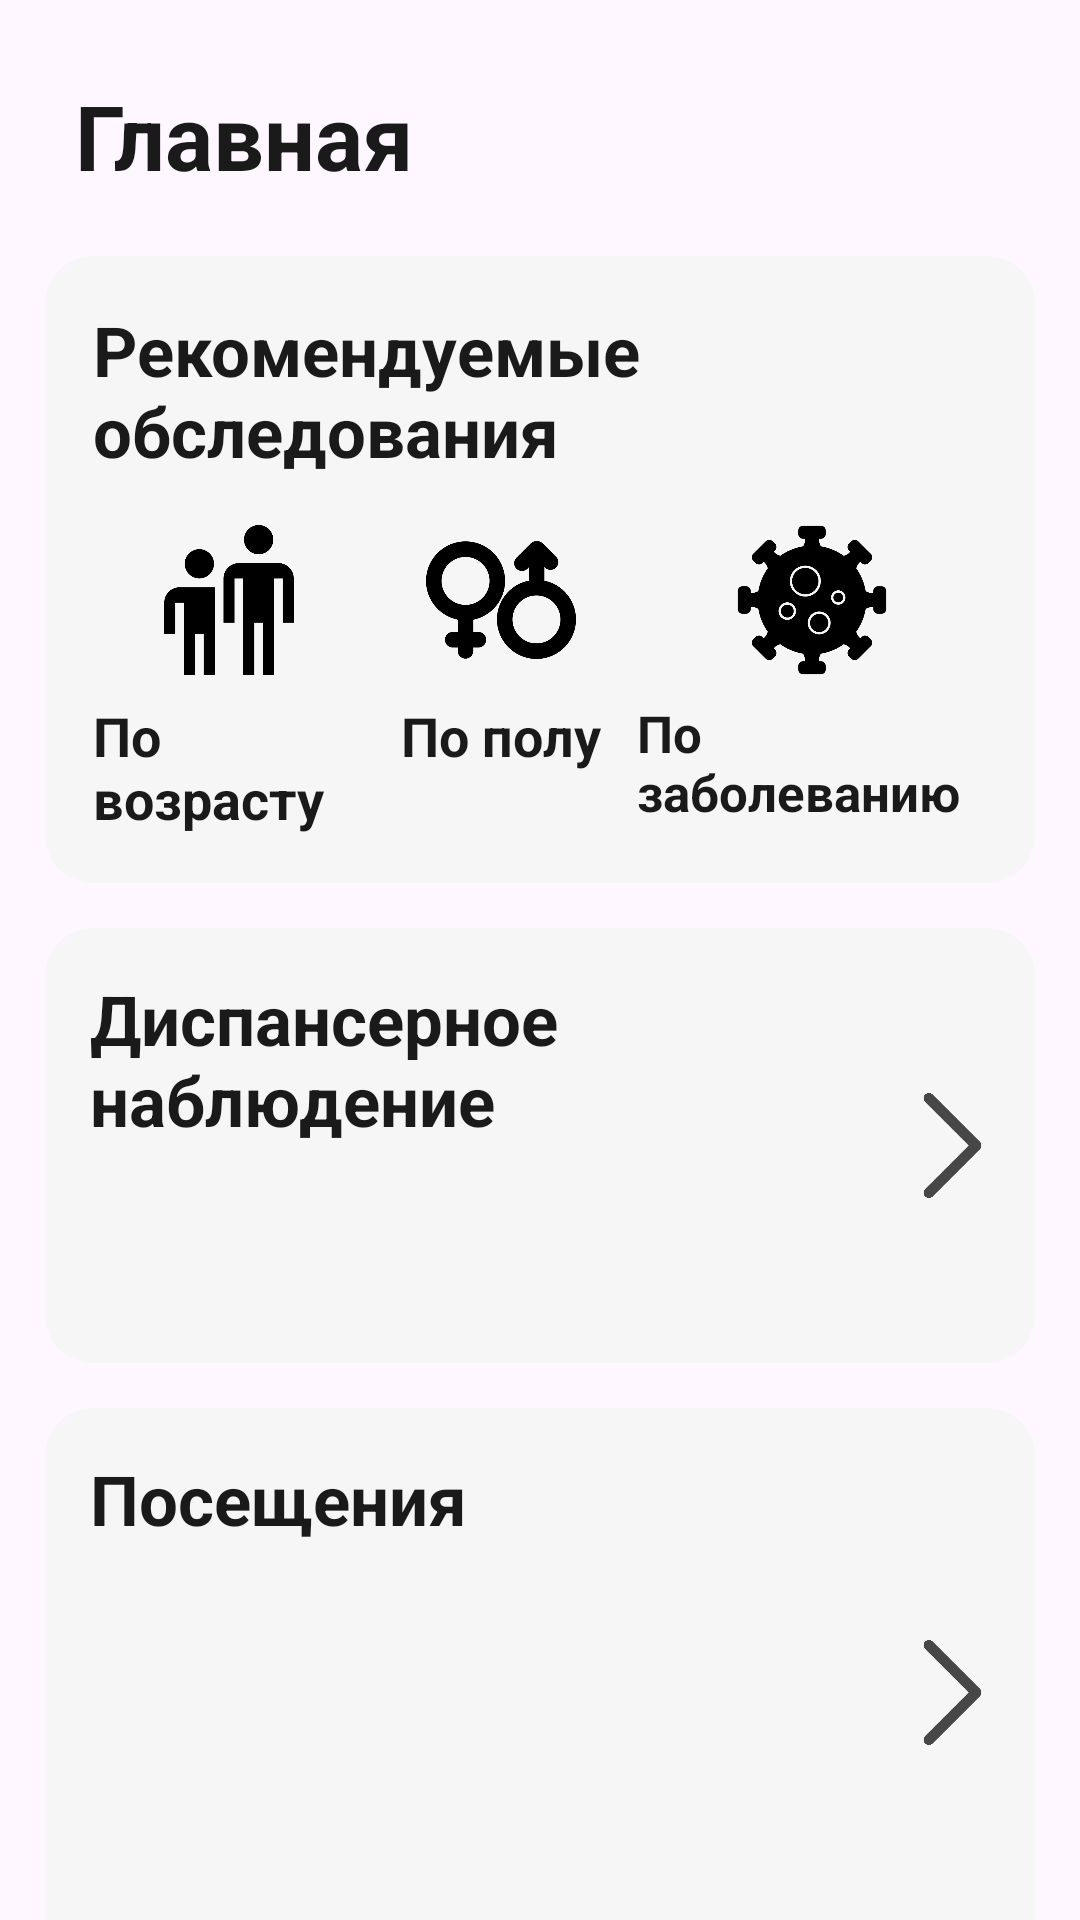

Locate icon controls on the screen. Image size 1080*1920, boxes as (x1, y1, x2, y2).
age: (164, 525, 294, 675)
gender: (426, 541, 576, 659)
next: (924, 1093, 981, 1198), (924, 1640, 981, 1745)
virus: (738, 526, 886, 674)
